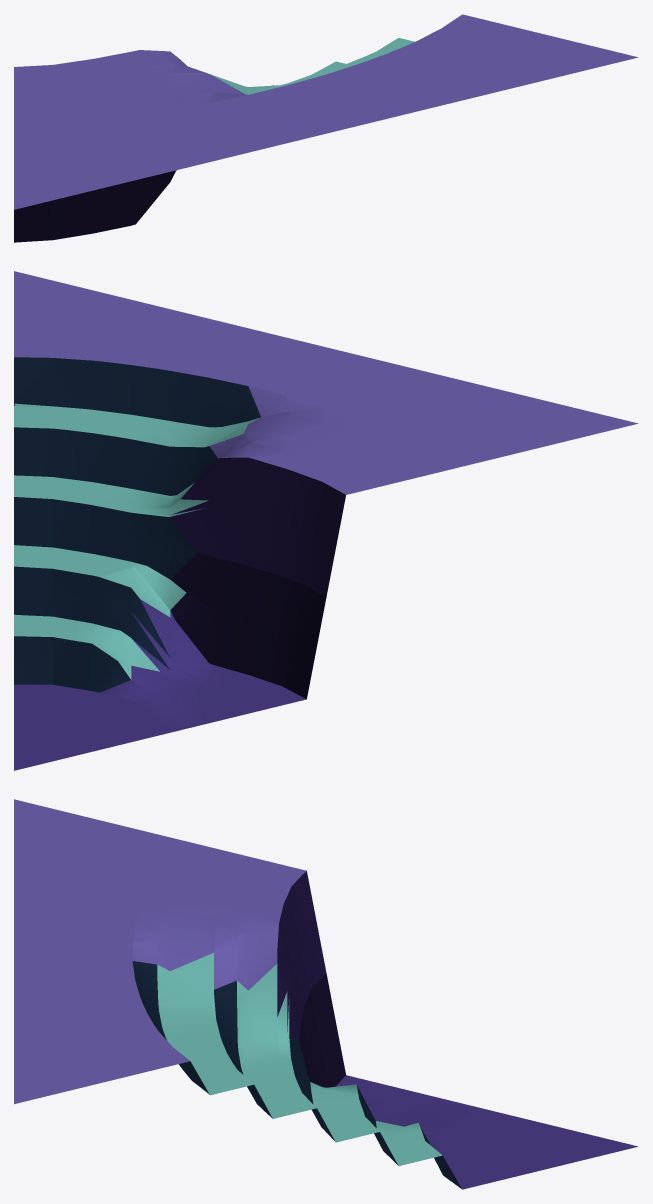
The model's file is MODULE_ALIEN_MIX_SIDE_A_2.fbx.
3 renders of one model, top to bottom at view 1: azimuth 30°, elevation 25°; view 2: azimuth 150°, elevation 25°; view 3: azimuth 270°, elevation 25°, orthographic.
Visible parts, largest first — view 1: MODULE_ALIEN_MIX_SIDE_A_2__export; view 2: MODULE_ALIEN_MIX_SIDE_A_2__export; view 3: MODULE_ALIEN_MIX_SIDE_A_2__export.
Boxes of the visible parts, box(x1,y1,x2,y2) form: MODULE_ALIEN_MIX_SIDE_A_2__export: box(14, 14, 638, 242); MODULE_ALIEN_MIX_SIDE_A_2__export: box(14, 271, 638, 770); MODULE_ALIEN_MIX_SIDE_A_2__export: box(14, 799, 637, 1189).
Bounding box in the file's own units: 100 × 29.78 × 86.6.
